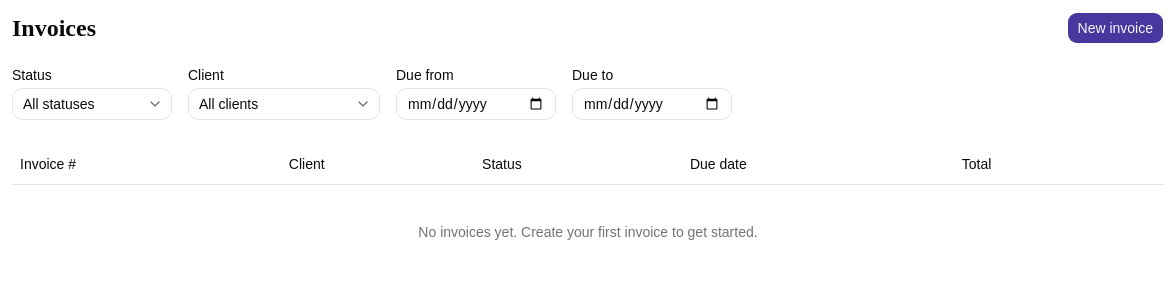
InvoicesListPage empty-state copy › shows the 'no invoices match these filters' message once a filter is applied
Expected: the text "No invoices yet. Create your first invoice to get started." is shown, x1=12 y1=184 x2=1164 y2=280
Click the dropdown labelled "All statuses" at (92, 104), box x1=12 y1=88 x2=172 y2=120
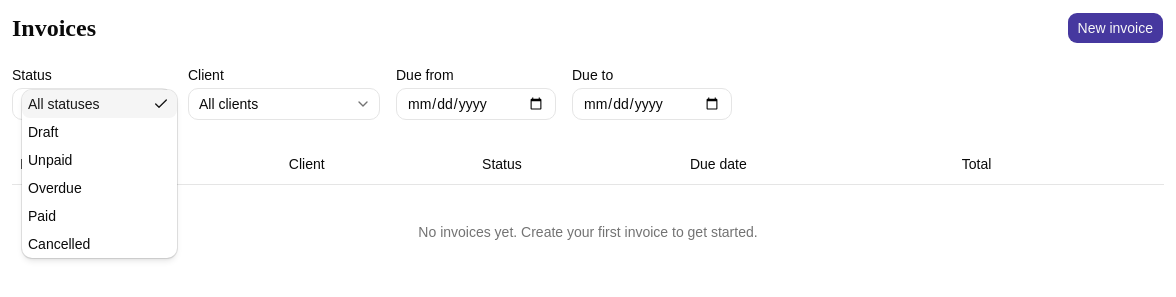
Click the option "Overdue" at (55, 188), box x1=28 y1=180 x2=82 y2=196
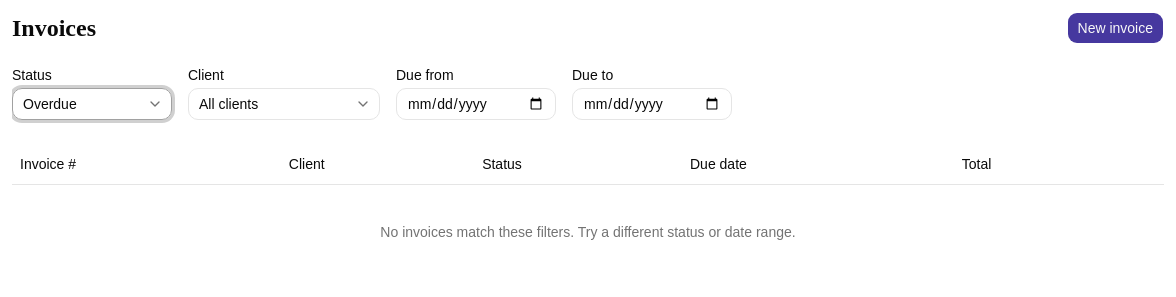
Expected: the text "No invoices match these filters. Try a different status or date range." is shown, x1=12 y1=184 x2=1164 y2=280
